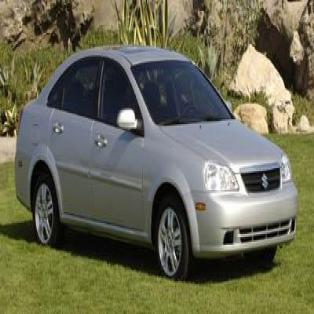Auto: (13, 41, 299, 282)
